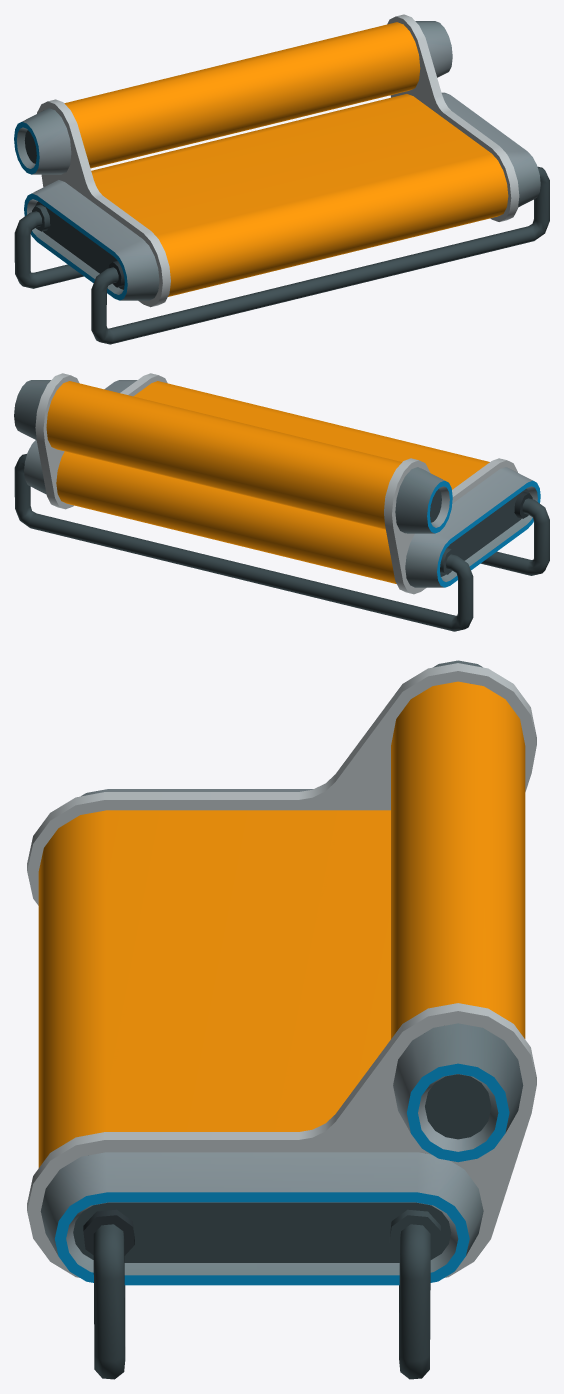
The model's file is Sofa_003.fbx.
3 views of the same model, one above another, from view 1: azimuth 30°, elevation 25°; view 2: azimuth 150°, elevation 25°; view 3: azimuth 270°, elevation 25° (orthographic). The views are drawn at different scales.
Parts seen in each view (by area): view 1: Sofa_003; view 2: Sofa_003; view 3: Sofa_003.
Part boxes in pixels (x1=…): Sofa_003: x1=14, y1=14, x2=549, y2=344; Sofa_003: x1=14, y1=373, x2=549, y2=631; Sofa_003: x1=27, y1=660, x2=536, y2=1379.
Size of the model in its own units: 202 by 97.99 by 71.08.
